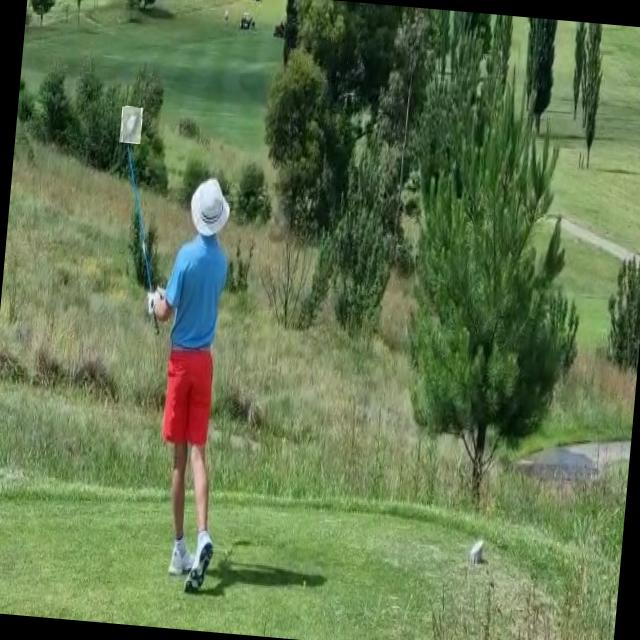club head: (119, 106, 143, 144)
